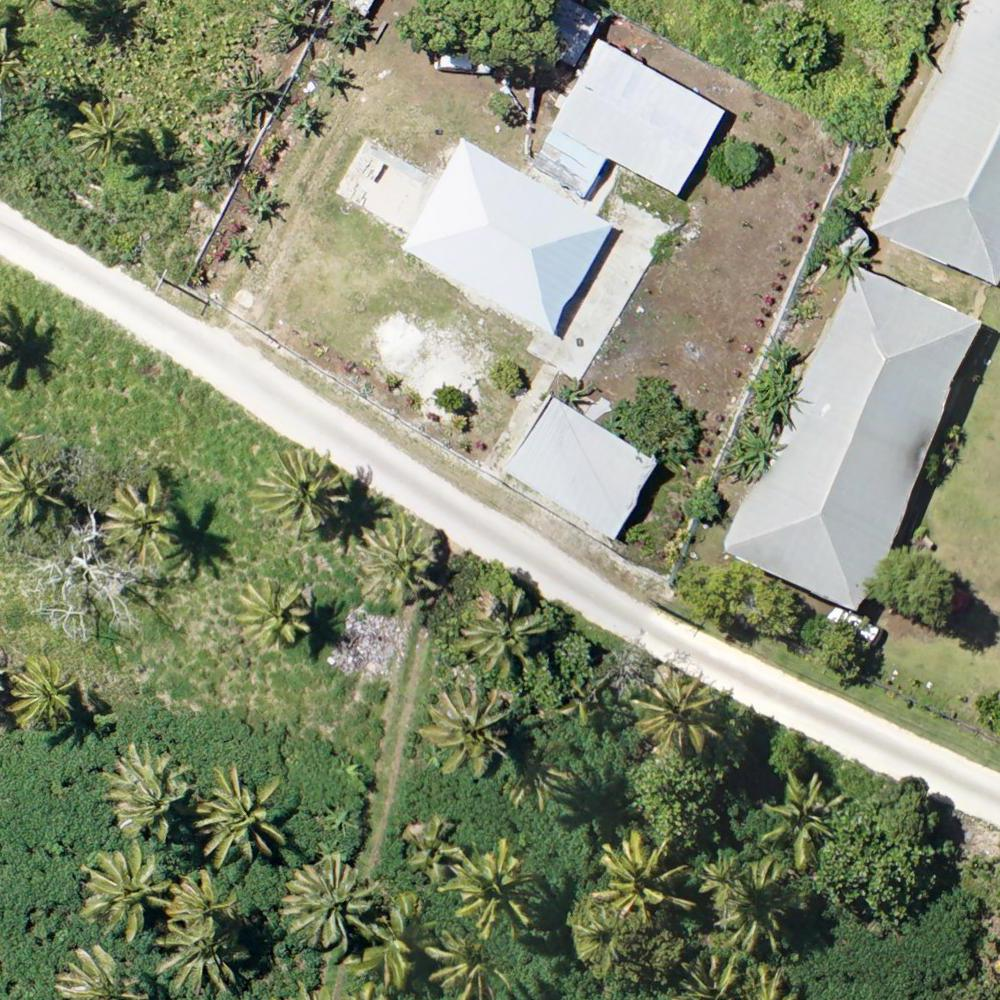Palm: (590, 833, 693, 926), (99, 745, 188, 844), (279, 857, 375, 945), (195, 764, 285, 856), (634, 664, 724, 756), (356, 515, 445, 607), (80, 844, 169, 936), (457, 591, 545, 683), (423, 688, 508, 774), (761, 772, 837, 868), (152, 916, 243, 996), (707, 858, 791, 943), (255, 448, 342, 529), (457, 842, 533, 934), (103, 478, 181, 563), (430, 926, 511, 996), (239, 578, 309, 650), (8, 658, 76, 731), (1, 447, 63, 526), (166, 868, 241, 930), (407, 813, 464, 885), (69, 97, 133, 161), (573, 908, 631, 964)
